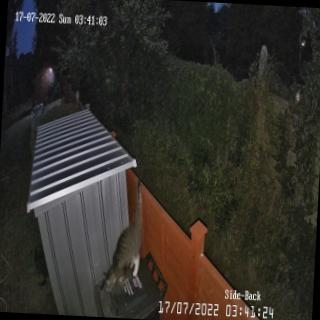cat: (101, 174, 148, 298)
